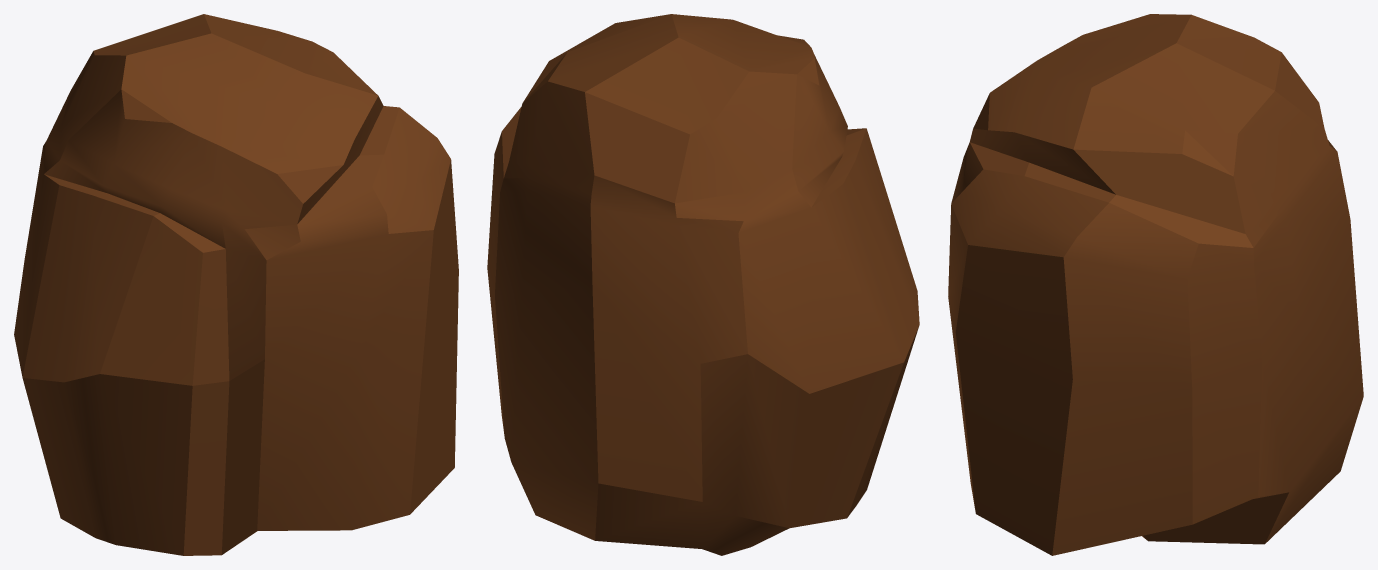
Rendered from rock-3.glb.
The picture shows the model from 3 angles, left to right: view 1: azimuth 30°, elevation 25°; view 2: azimuth 150°, elevation 25°; view 3: azimuth 270°, elevation 25°; orthographic projection. The views are drawn at different scales.
Parts seen in each view (by area): view 1: Rock_3; view 2: Rock_3; view 3: Rock_3.
Part boxes in pixels (x1=…): Rock_3: x1=14, y1=14, x2=458, y2=555; Rock_3: x1=487, y1=14, x2=919, y2=555; Rock_3: x1=948, y1=14, x2=1363, y2=555.
Size of the model in its own units: 3.3 by 3.83 by 3.01.
